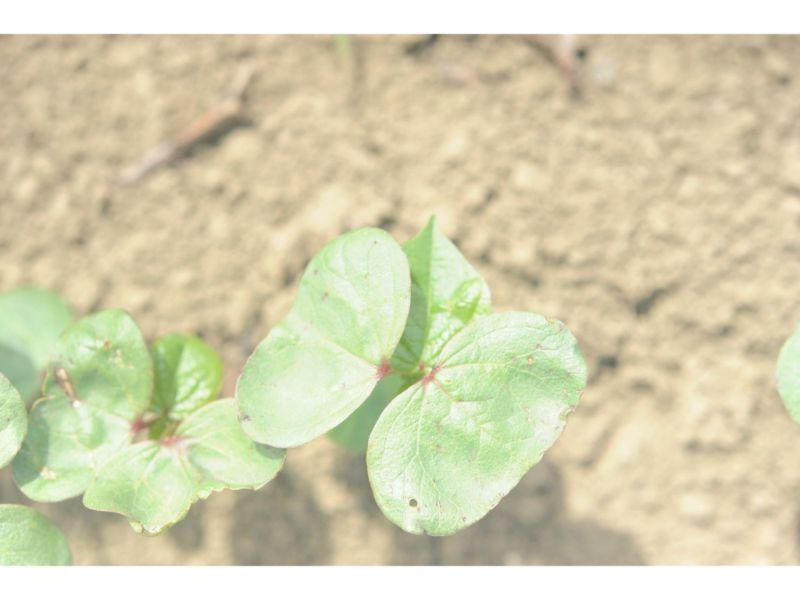cotton: (237, 211, 587, 535), (0, 287, 285, 534)
